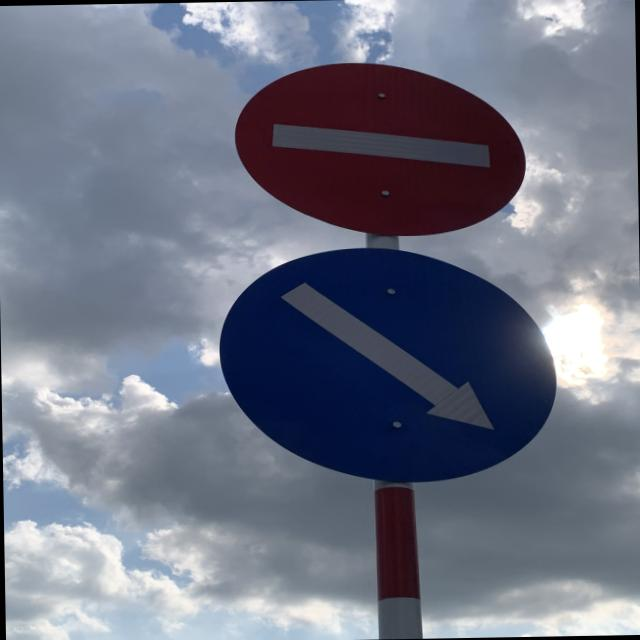Cam_Di_Nguoc_Chieu: (231, 58, 529, 240)
Chi_Huong_Di_Phai: (212, 241, 562, 487)
